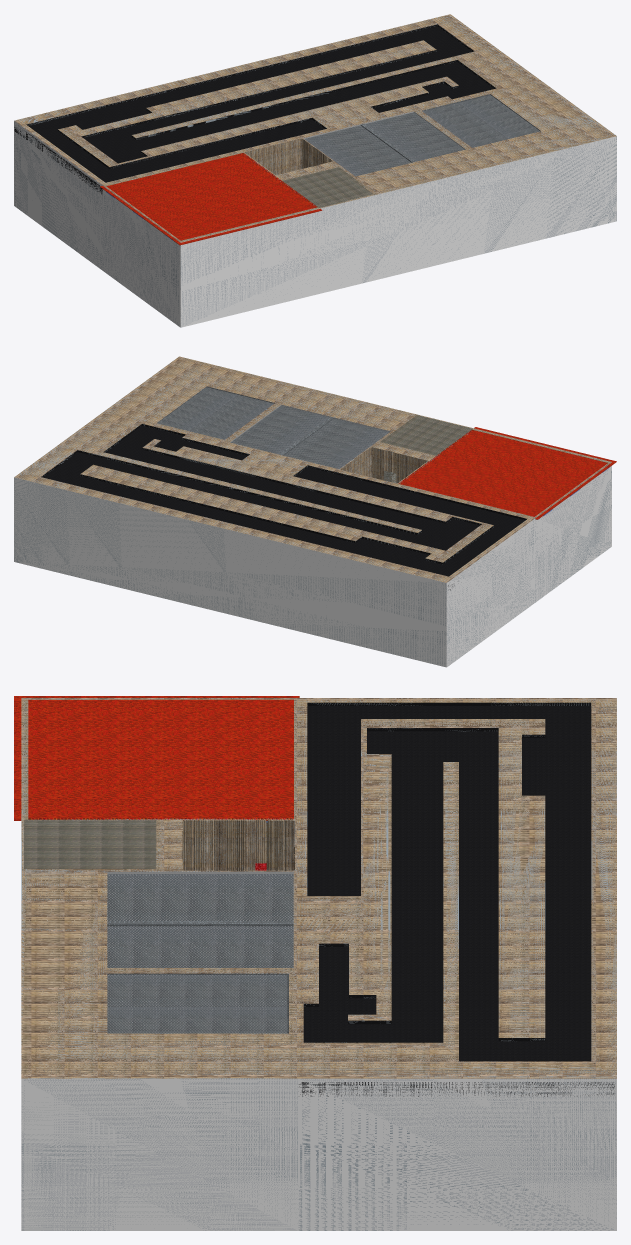
The model's file is room.dae.
3 views of the same model, one above another, from view 1: azimuth 30°, elevation 25°; view 2: azimuth 150°, elevation 25°; view 3: azimuth 270°, elevation 25° (orthographic). The views are drawn at different scales.
Parts seen in each view (by area): view 1: Component_1 (×4), mazeRoof, Component2_1, Component1_1 (×2), Component3_1; view 2: Component_1 (×4), mazeRoof, Component2_1, Component1_1 (×2), Component3_1; view 3: Component_1 (×7), mazeRoof, Component2_1, Component1_1 (×2), Component3_1.
Boxes of the visible parts, x1,y1,x2,y2 form: Component_1 (×4): [14, 14, 616, 327]; mazeRoof: [14, 26, 494, 194]; Component2_1: [100, 153, 322, 245]; Component1_1 (×2): [304, 95, 539, 176]; Component3_1: [283, 167, 374, 207]; Component_1 (×4): [14, 356, 611, 667]; mazeRoof: [43, 425, 525, 590]; Component2_1: [400, 427, 616, 519]; Component1_1 (×2): [157, 387, 389, 468]; Component3_1: [381, 415, 472, 455]; Component_1 (×7): [21, 698, 616, 1230]; mazeRoof: [299, 706, 614, 1096]; Component2_1: [14, 696, 299, 820]; Component1_1 (×2): [107, 874, 293, 1033]; Component3_1: [24, 819, 156, 868].
Bounding box in the file's own units: 3681 × 2449 × 682.
18 materials, 14 textured.
